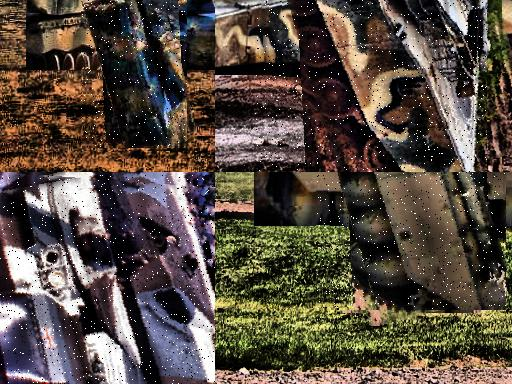tanks: (1, 176, 216, 384), (287, 1, 488, 173), (337, 173, 507, 310), (82, 1, 188, 148)
